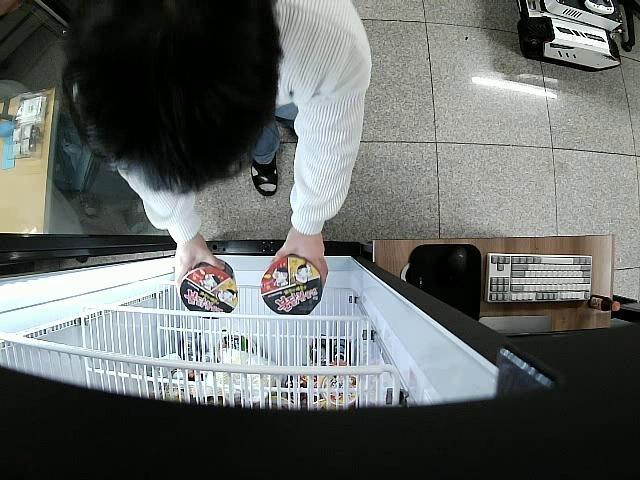07_buldak_L: (260, 256, 324, 315), (179, 258, 238, 317)
